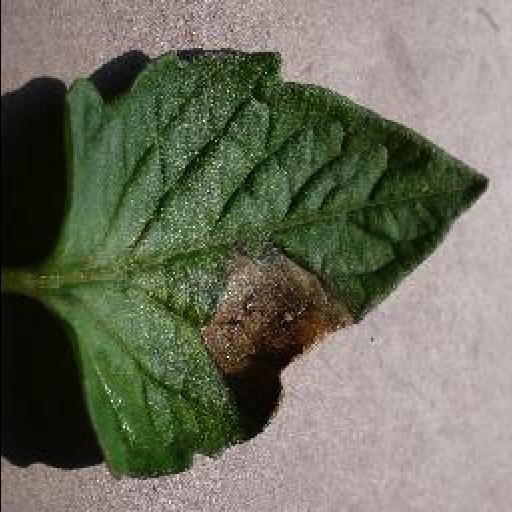disease_tomato: (55, 54, 489, 486)
